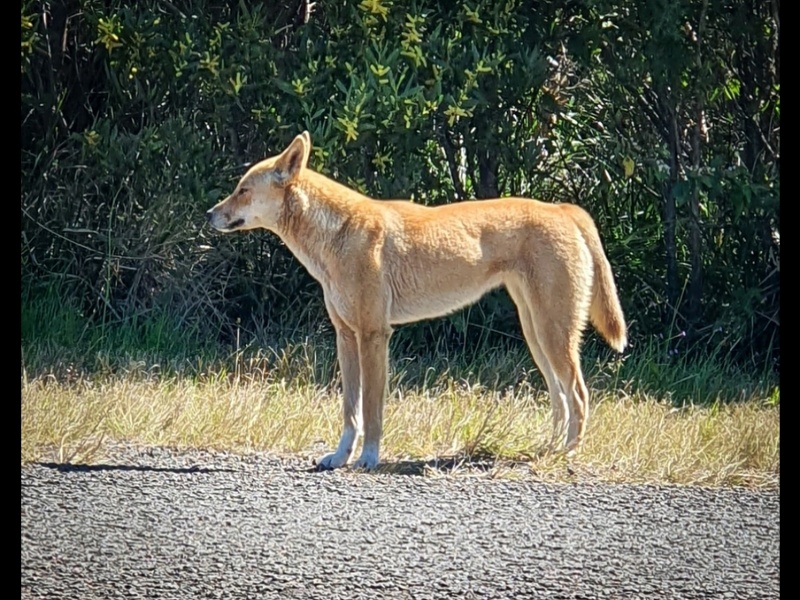dog: (203, 127, 632, 477)
